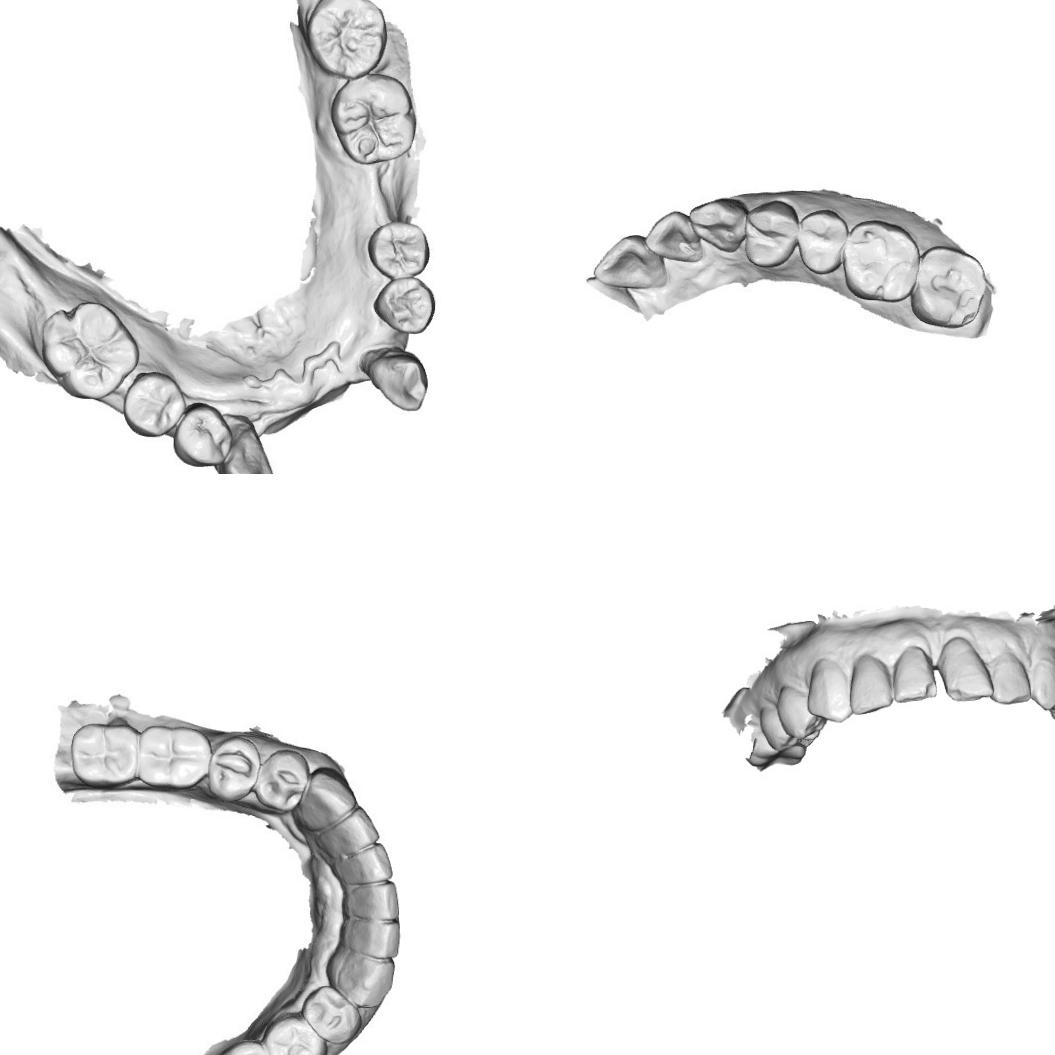canine: (364, 350, 434, 413), (301, 768, 355, 836), (686, 195, 746, 256), (807, 656, 857, 725), (334, 953, 392, 1012), (217, 424, 278, 474), (1027, 652, 1055, 712)
incisor: (591, 233, 666, 295), (934, 634, 996, 704), (643, 210, 701, 262), (847, 654, 894, 717), (892, 642, 938, 705), (988, 646, 1033, 708), (344, 882, 403, 924), (333, 843, 394, 883), (322, 812, 378, 852), (346, 921, 399, 957)
molar: (38, 298, 141, 402), (328, 71, 418, 166), (302, 0, 388, 80), (840, 218, 918, 304), (908, 243, 985, 329), (72, 717, 140, 788), (139, 725, 210, 792)
premolar: (122, 370, 188, 440), (170, 398, 234, 469), (741, 198, 800, 269), (370, 274, 436, 336), (364, 218, 430, 279), (795, 210, 849, 276), (301, 985, 359, 1046), (774, 686, 826, 740), (209, 739, 258, 796), (262, 748, 303, 810), (268, 1014, 322, 1055), (761, 705, 790, 748)
